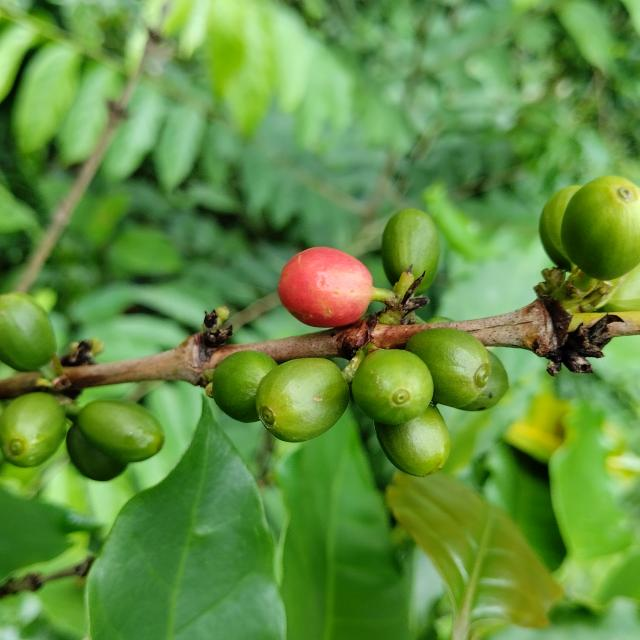green: (406, 328, 510, 411), (562, 176, 640, 280), (255, 358, 350, 443), (352, 350, 434, 425), (77, 400, 164, 463), (375, 405, 451, 477), (382, 209, 440, 295), (0, 393, 66, 468), (211, 351, 277, 423), (0, 292, 55, 372), (540, 185, 583, 270), (65, 425, 126, 482), (598, 264, 640, 312)
red: (278, 247, 374, 327)
